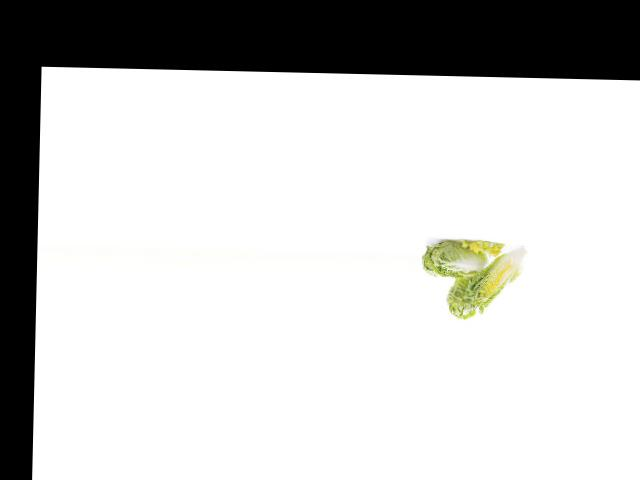lettuce: (423, 236, 496, 281)
